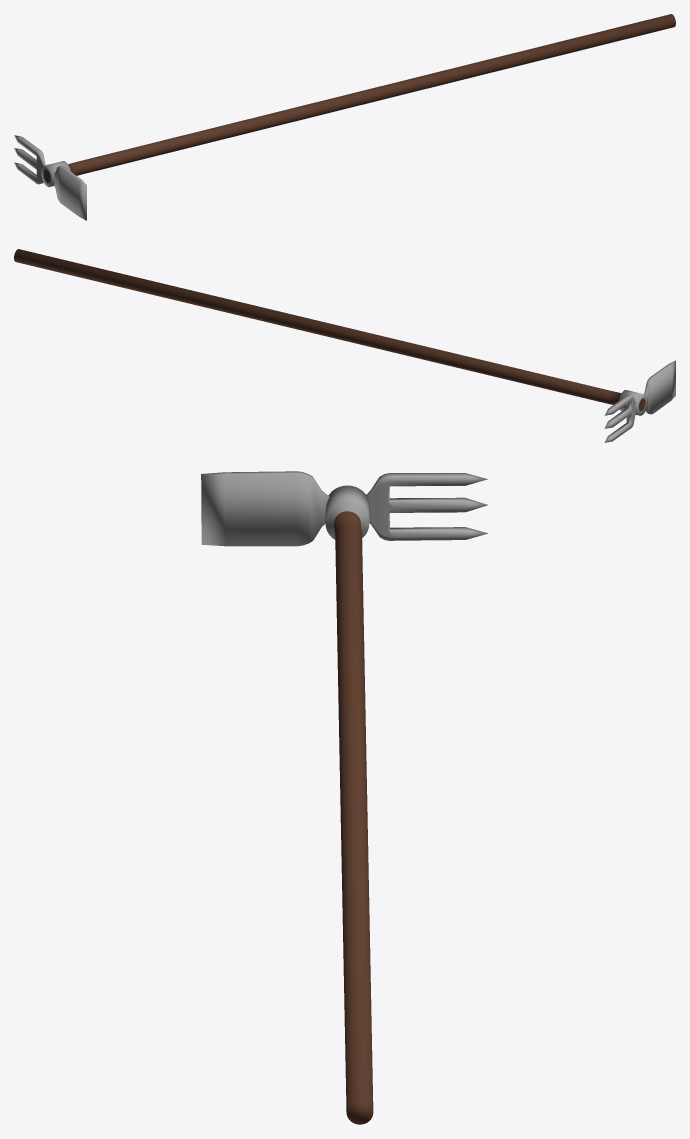
Rendered from hoe2.fbx.
3 renders of one model, top to bottom at view 1: azimuth 30°, elevation 25°; view 2: azimuth 150°, elevation 25°; view 3: azimuth 270°, elevation 25°, orthographic. The views are drawn at different scales.
Parts seen in each view (by area): view 1: Cylinder; view 2: Cylinder; view 3: Cylinder.
Part boxes in pixels (x1=…): Cylinder: x1=14, y1=14, x2=675, y2=220; Cylinder: x1=14, y1=249, x2=675, y2=442; Cylinder: x1=201, y1=471, x2=488, y2=1124.
Bounding box in the file's own units: 496 × 27.39 × 99.39.
